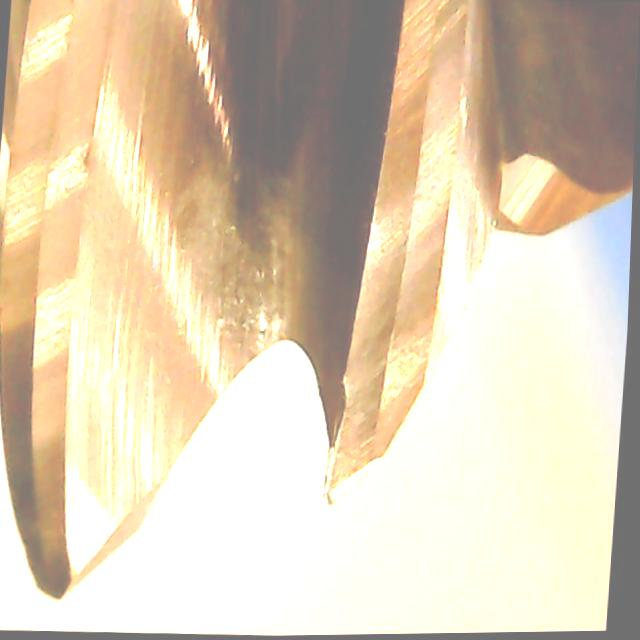Tool-wear-class-1: (304, 215, 446, 514)
